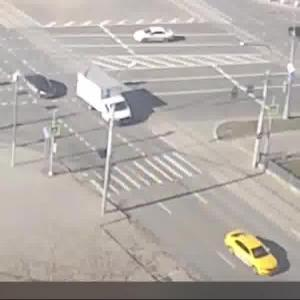car: (77, 62, 139, 130), (226, 225, 283, 280), (20, 67, 57, 103), (129, 25, 182, 49)
